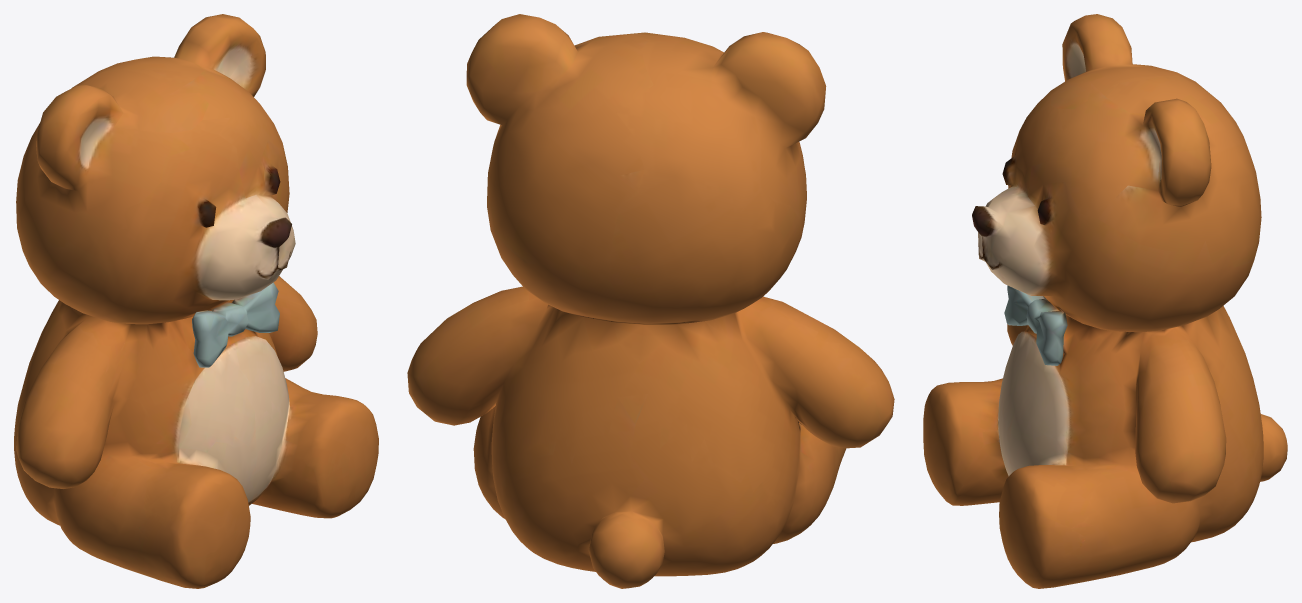
The model's file is toy_teddy_bear.glb.
3 views of the same model, side by side, from view 1: azimuth 30°, elevation 25°; view 2: azimuth 150°, elevation 25°; view 3: azimuth 270°, elevation 25° (orthographic). The views are drawn at different scales.
Parts seen in each view (by area): view 1: tripo_node_40a81795-9edb-487a-95d3-c97c8cba433f; view 2: tripo_node_40a81795-9edb-487a-95d3-c97c8cba433f; view 3: tripo_node_40a81795-9edb-487a-95d3-c97c8cba433f.
Boxes of the visible parts, box(x1,y1,x2,y2) form: tripo_node_40a81795-9edb-487a-95d3-c97c8cba433f: box(14, 14, 378, 588); tripo_node_40a81795-9edb-487a-95d3-c97c8cba433f: box(407, 14, 894, 588); tripo_node_40a81795-9edb-487a-95d3-c97c8cba433f: box(923, 14, 1287, 588).
Bounding box in the file's own units: 0.4918 × 0.6 × 0.4359.
Materials: 1 (1 with a texture image).
